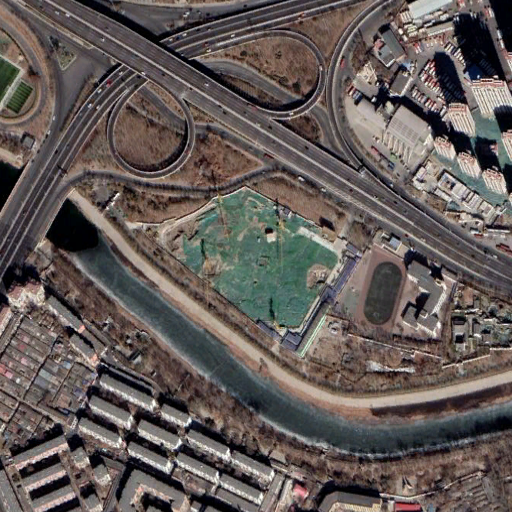cw: (162, 185, 338, 324)
